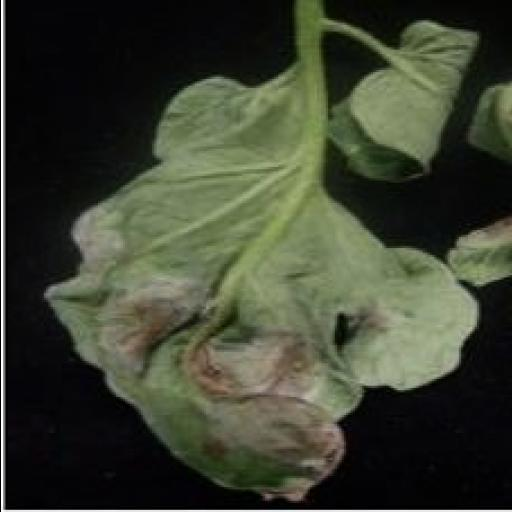Late Blight: (39, 13, 510, 512)
